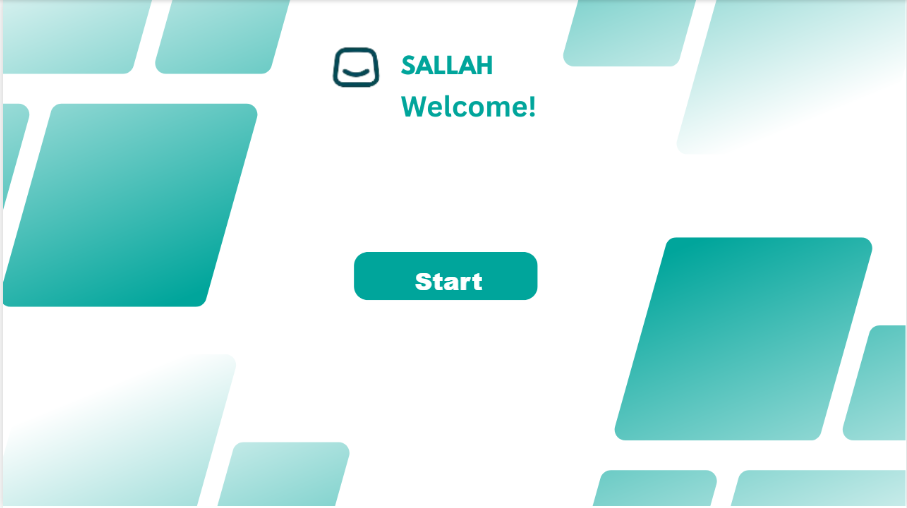

What the dashboard file says about the page in this screenshot:
{"tool":"powerbi","page":{"name":"Home","canvas":[1280,720],"ordinal":2},"visuals":[{"type":"actionButton","box":[512,368,240,48],"z":0}]}

Visuals, with their boxes in screenshot pixels (x1, y1, x2, y2), scaled from the page's 1280x720 canvas onto the 907x508 screenshot:
actionButton: 363,260,533,294
